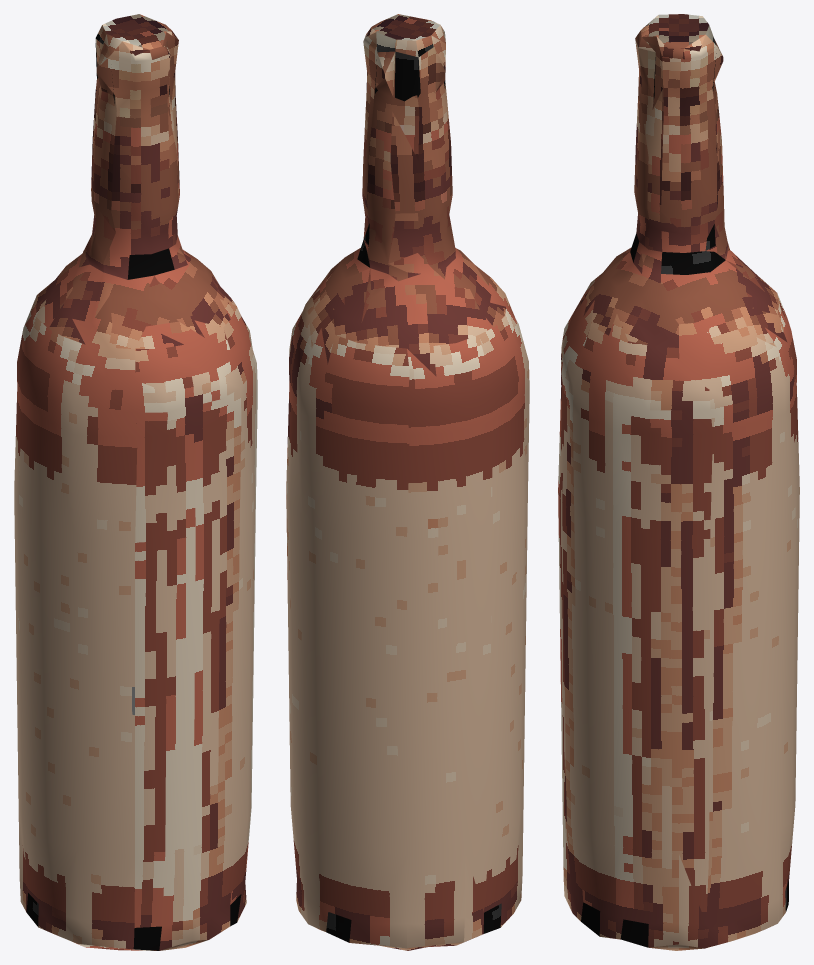
Rendered from wine_bottle_bordeaux.glb.
3 renders of one model, left to right at view 1: azimuth 30°, elevation 25°; view 2: azimuth 150°, elevation 25°; view 3: azimuth 270°, elevation 25°, orthographic.
Parts seen in each view (by area): view 1: body; view 2: body; view 3: body.
Boxes of the visible parts, left/top/right/bottom form: body: left=14, top=14, right=257, bottom=950; body: left=286, top=14, right=529, bottom=950; body: left=558, top=14, right=799, bottom=950.
Size of the model in its own units: 0.074 by 0.298 by 0.074.
Materials: 1 (1 with a texture image).
